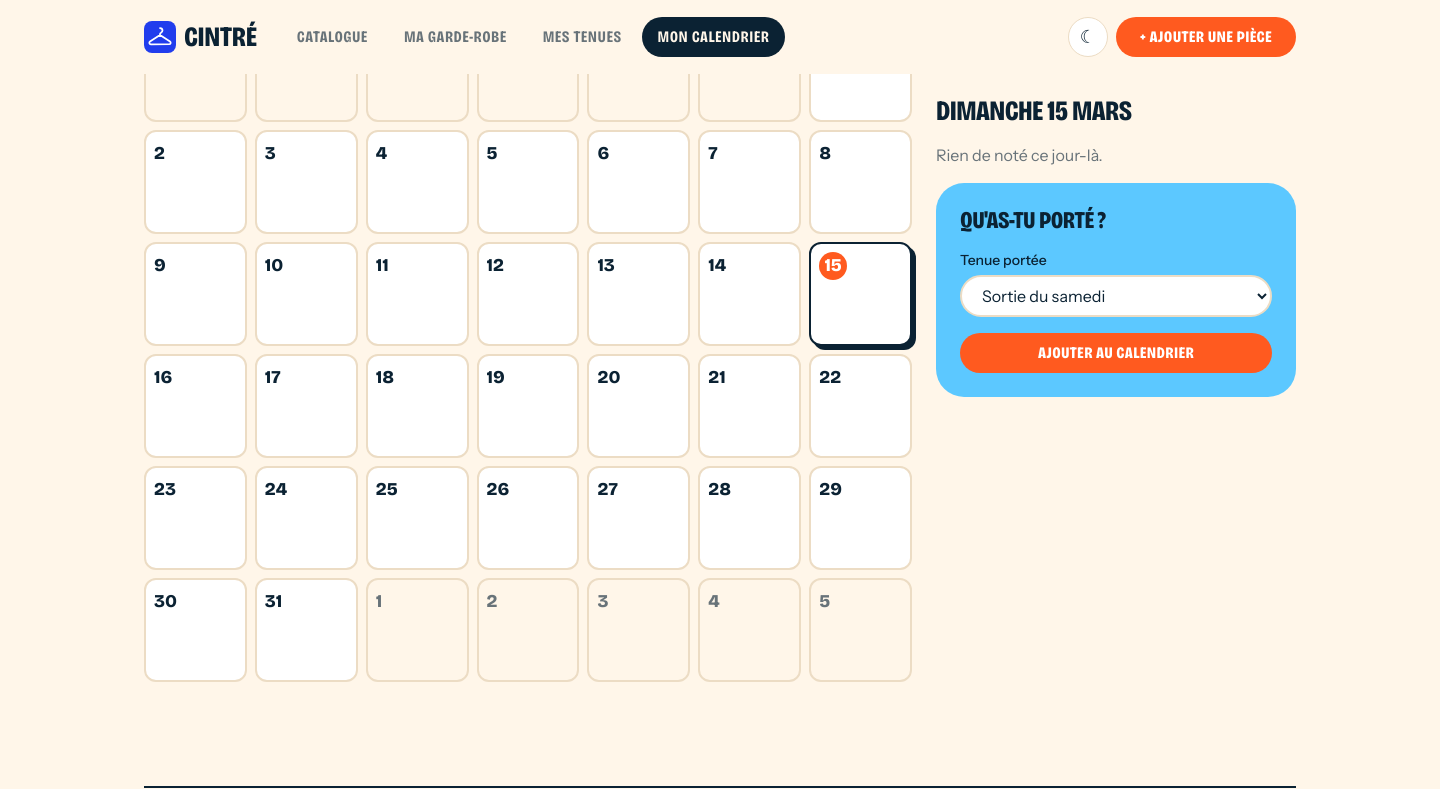
Scenario: Calendrier : prévoir une tenue › change le texte du formulaire pour un jour futur
(page scrolled)
Step 1. Click the button "16" → (195,406), box 144,354 -> 247,458
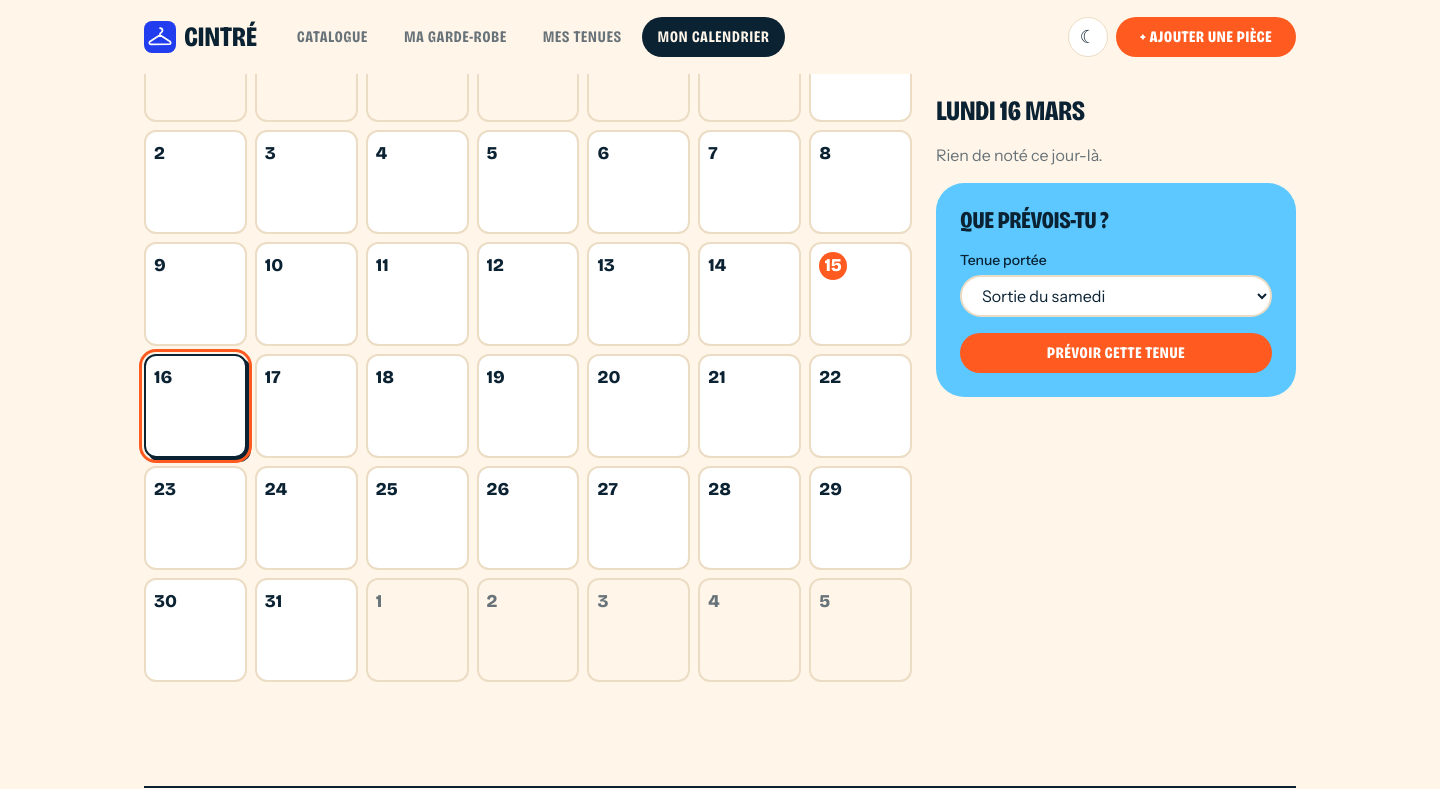
Now the heading "Que prévois-tu ?" is shown, box 960,206 -> 1108,234
Now the button "Prévoir cette tenue" is shown, box 960,332 -> 1272,372
